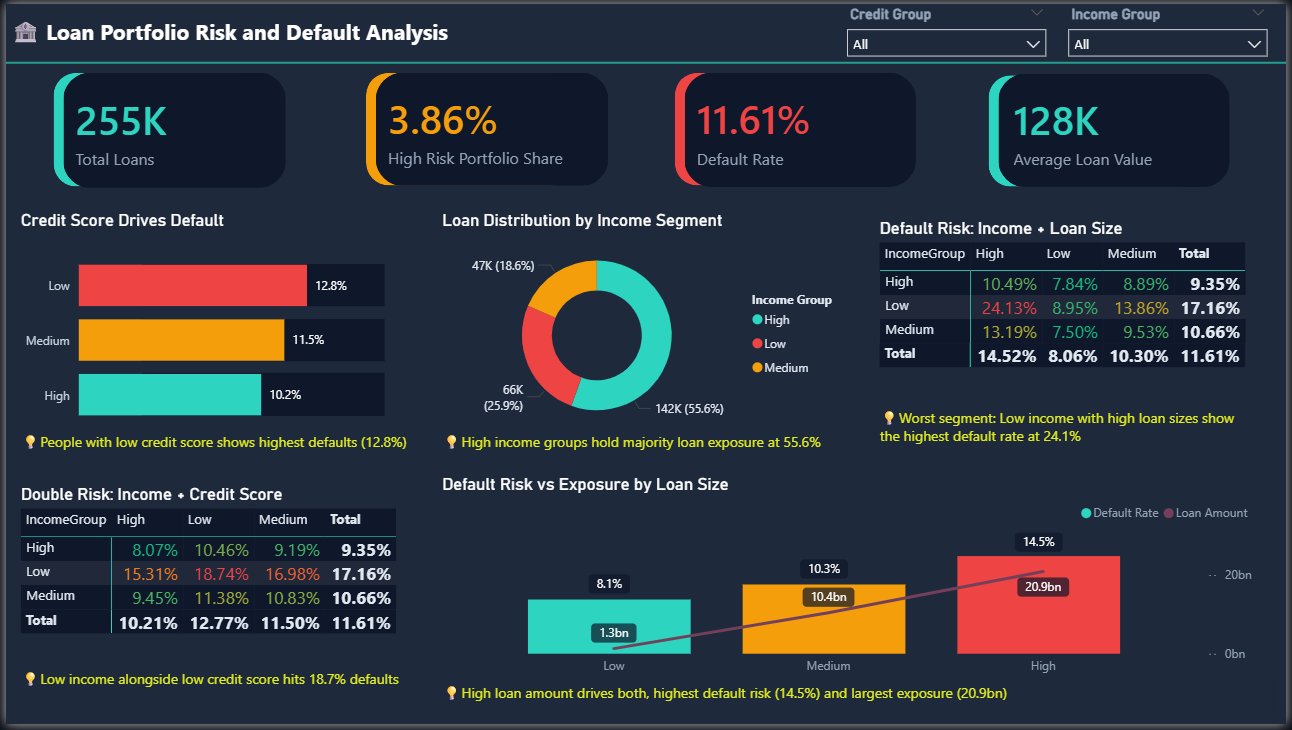

This screenshot's page, from the dashboard's own definition file:
{"tool":"powerbi","page":{"name":"Page 1","canvas":[1280,720],"ordinal":0},"visuals":[{"type":"shape","box":[0,0,1280,56],"z":0},{"type":"donutChart","title":"Loan Distribution by Income Segment","fields":{"Category":["loan_analysis loans.IncomeGroup"],"Y":["loan_analysis loans.TotalLoans"]},"box":[431.2,201.2,417.5,235.3],"z":0,"group":"g5"},{"type":"shape","box":[136.7,314.6,242.5,42.2],"z":0,"group":"g9"},{"type":"shape","box":[0,52.5,1280,12.5],"z":1000},{"type":"pivotTable","title":"Default Risk: Income + Loan Size","fields":{"Rows":["loan_analysis loans.IncomeGroup"],"Columns":["loan_analysis loans.LoanAmountGroup"],"Values":["loan_analysis loans.DefaultRate"]},"box":[868.8,208.8,386.2,197.7],"z":1000,"group":"g6"},{"type":"shape","box":[136.7,368.9,242.5,43.4],"z":1000,"group":"g9"},{"type":"textbox","box":[0,7.5,455,48.8],"z":2000},{"type":"shape","box":[136.7,260.3,242.5,42.2],"z":2000,"group":"g9"},{"type":"pivotTable","title":"Double Risk: Income + Credit Score","fields":{"Rows":["loan_analysis loans.IncomeGroup"],"Columns":["loan_analysis loans.CreditGroup"],"Values":["loan_analysis loans.DefaultRate"]},"box":[10,475,388.8,196.7],"z":2000,"group":"g8"},{"type":"slicer","title":"Income Group","fields":{"Values":["loan_analysis loans.IncomeGroup"]},"box":[1057.5,1.2,208.8,55],"z":3000},{"type":"slicer","fields":{"Values":["loan_analysis loans.CreditGroup"]},"box":[836.2,1.2,208.8,57.5],"z":4000},{"type":"barChart","title":"Credit Score Drives Default","fields":{"Category":["loan_analysis loans.CreditGroup"],"Y":["loan_analysis loans.DefaultRate"]},"box":[10,201.2,351.1,238.9],"z":4000,"group":"g9"},{"type":"lineClusteredColumnComboChart","title":"Default Risk vs Exposure by Loan Size","fields":{"Category":["loan_analysis loans.LoanAmountGroup"],"Y2":["Sum(loan_analysis loans.LoanAmount)"],"Y":["loan_analysis loans.DefaultRate"]},"box":[431.2,465.3,835,214.3],"z":4000,"group":"g10"},{"type":"group","id":"g1","title":"Group 1","box":[982.5,70.2,241.2,113.8],"z":5000},{"type":"group","id":"g2","title":"Group 2","box":[668.8,69,241.2,115],"z":6000},{"type":"shape","box":[668.8,69,227.5,112.8],"z":6000,"group":"g2"},{"type":"group","id":"g3","title":"Group 3","box":[47.5,69,232.5,113.8],"z":7000},{"type":"group","id":"g4","title":"Group 4","box":[360,69,242.5,113.8],"z":8000},{"type":"shape","box":[982.5,71.3,213.1,111.5],"z":8000,"group":"g1"},{"type":"cardVisual","fields":{"Data":["loan_analysis loans.DefaultRate"]},"box":[678.6,69.1,231.5,114.6],"z":9000,"group":"g2"},{"type":"group","id":"g5","title":"Group 6","box":[431.2,201.2,417.5,255],"z":9000},{"type":"cardVisual","fields":{"Data":["loan_analysis loans.AvgLoan"]},"box":[992.6,70.2,231.1,113.8],"z":10000,"group":"g1"},{"type":"group","id":"g6","title":"Group 7","box":[868.8,208.8,386.2,255],"z":10000},{"type":"group","id":"g7","title":"Group 8","box":[10,201.2,398.8,255],"z":11000},{"type":"group","id":"g8","title":"Group 9","box":[10,475,401.2,226.2],"z":12000},{"type":"group","id":"g9","title":"Group 5","box":[10,201.2,368.8,238.8],"z":13000,"group":"g7"},{"type":"group","id":"g10","title":"Group 10","box":[431.2,465.3,835,247.5],"z":13000},{"type":"shape","box":[47.5,69,206.2,113.9],"z":14000,"group":"g3"},{"type":"textbox","box":[10.4,422.9,398.8,33.8],"z":14000,"group":"g7"},{"type":"cardVisual","fields":{"Data":["loan_analysis loans.TotalLoans"]},"box":[57.8,69,222.2,115],"z":15000,"group":"g3"},{"type":"textbox","box":[431.6,422.9,397.5,33.3],"z":15000,"group":"g5"},{"type":"textbox","box":[868.8,398.9,374.7,64.9],"z":16000,"group":"g6"},{"type":"shape","box":[360,69,208.3,112.6],"z":17000,"group":"g4"},{"type":"textbox","box":[10,659.8,401.2,41.4],"z":17000,"group":"g8"},{"type":"cardVisual","fields":{"Data":["loan_analysis loans.High Risk Portfolio Share"]},"box":[369.7,69,232.8,113.8],"z":18000,"group":"g4"},{"type":"textbox","box":[431.2,674.1,835,38.7],"z":18000,"group":"g10"}]}

Visuals, with their boxes in screenshot pixels (x1, y1, x2, y2), scaled from the page's 1280x720 canvas onto the 1292x730 screenshot:
shape: left=0, top=0, right=1291, bottom=57
"Loan Distribution by Income Segment" donutChart: left=435, top=204, right=857, bottom=443
shape: left=138, top=319, right=383, bottom=362
shape: left=0, top=53, right=1291, bottom=66
"Default Risk: Income + Loan Size" pivotTable: left=877, top=212, right=1267, bottom=412
shape: left=138, top=374, right=383, bottom=418
textbox: left=0, top=8, right=459, bottom=57
shape: left=138, top=264, right=383, bottom=307
"Double Risk: Income + Credit Score" pivotTable: left=10, top=482, right=403, bottom=681
"Income Group" slicer: left=1067, top=1, right=1278, bottom=57
slicer - loan_analysis loans.CreditGroup: left=844, top=1, right=1055, bottom=60
"Credit Score Drives Default" barChart: left=10, top=204, right=364, bottom=446
"Default Risk vs Exposure by Loan Size" lineClusteredColumnComboChart: left=435, top=472, right=1278, bottom=689
"Group 1" group: left=992, top=71, right=1235, bottom=187
"Group 2" group: left=675, top=70, right=919, bottom=187
shape: left=675, top=70, right=905, bottom=184
"Group 3" group: left=48, top=70, right=283, bottom=185
"Group 4" group: left=363, top=70, right=608, bottom=185
shape: left=992, top=72, right=1207, bottom=185
cardVisual - loan_analysis loans.DefaultRate: left=685, top=70, right=919, bottom=186
"Group 6" group: left=435, top=204, right=857, bottom=463
cardVisual - loan_analysis loans.AvgLoan: left=1002, top=71, right=1235, bottom=187
"Group 7" group: left=877, top=212, right=1267, bottom=470
"Group 8" group: left=10, top=204, right=413, bottom=463
"Group 9" group: left=10, top=482, right=415, bottom=711
"Group 5" group: left=10, top=204, right=382, bottom=446
"Group 10" group: left=435, top=472, right=1278, bottom=723
shape: left=48, top=70, right=256, bottom=185
textbox: left=10, top=429, right=413, bottom=463
cardVisual - loan_analysis loans.TotalLoans: left=58, top=70, right=283, bottom=187
textbox: left=436, top=429, right=837, bottom=463
textbox: left=877, top=404, right=1255, bottom=470
shape: left=363, top=70, right=574, bottom=184
textbox: left=10, top=669, right=415, bottom=711
cardVisual - loan_analysis loans.High Risk Portfolio Share: left=373, top=70, right=608, bottom=185
textbox: left=435, top=683, right=1278, bottom=723
